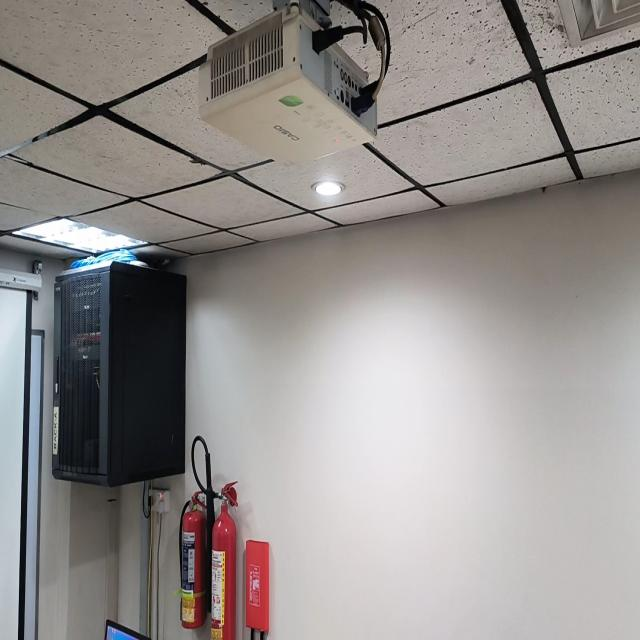Fire Extinguisher: (211, 481, 237, 639), (181, 496, 206, 629)
Light: (14, 219, 146, 254), (312, 180, 344, 196)
Monitor: (105, 619, 151, 639)
Projector: (198, 0, 377, 164)
